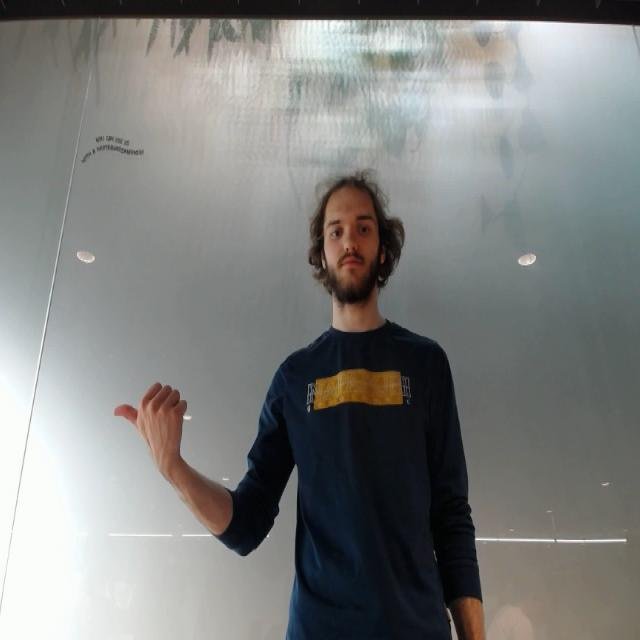left: (111, 378, 191, 468)
